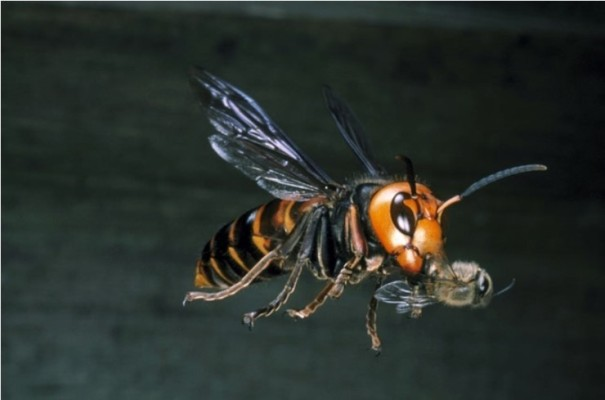asian_giant_hornet: (160, 59, 547, 260)
